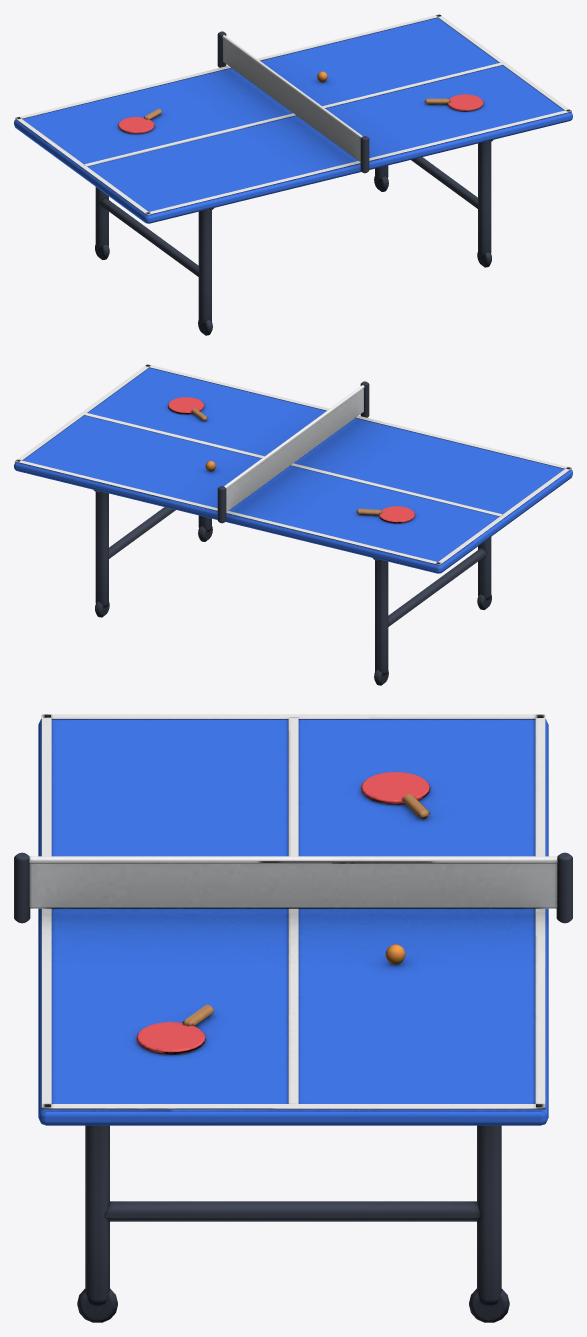
Rendered from ping_pong_table.glb.
3 renders of one model, top to bottom at view 1: azimuth 30°, elevation 25°; view 2: azimuth 150°, elevation 25°; view 3: azimuth 270°, elevation 25°, orthographic. The views are drawn at different scales.
Visible parts, largest first — view 1: ping_pong_table; view 2: ping_pong_table; view 3: ping_pong_table.
Part boxes in pixels (x1,y1,x2,y2): ping_pong_table: (14,14,572,335); ping_pong_table: (14,364,572,685); ping_pong_table: (14,714,572,1322).
Size of the model in its own units: 2.3 by 0.9137 by 1.37.
7 materials, 7 textured.
